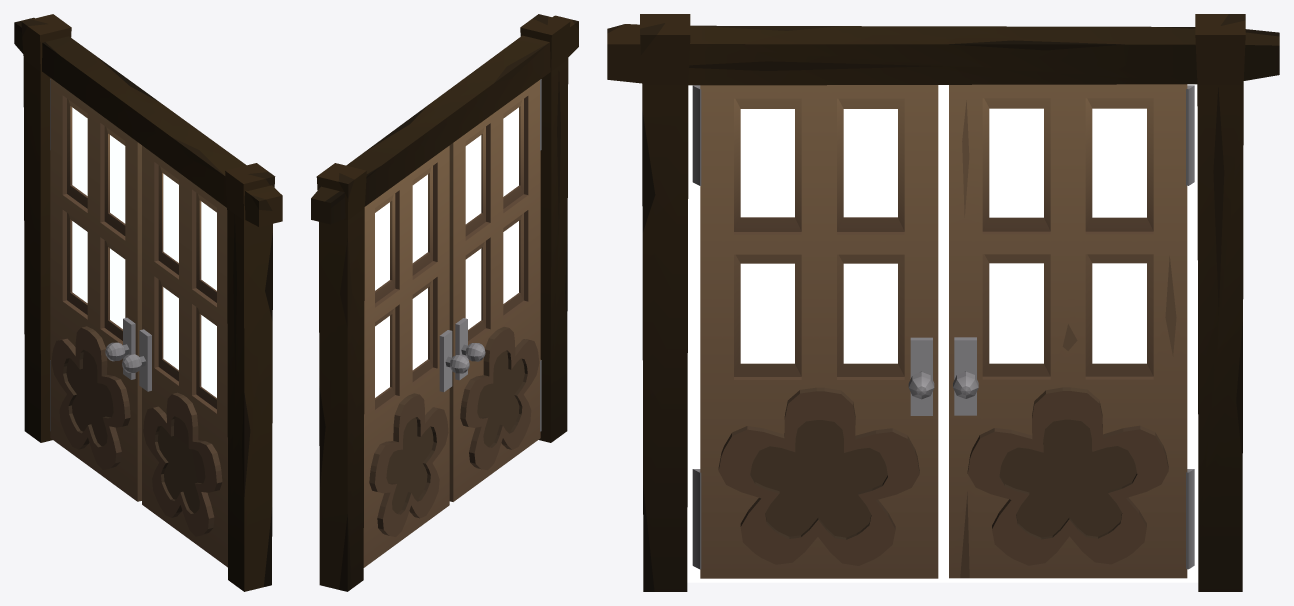
The model's file is cutepack2023doubledoor 1.fbx.
The picture shows the model from 3 angles, left to right: view 1: azimuth 30°, elevation 25°; view 2: azimuth 150°, elevation 25°; view 3: azimuth 270°, elevation 25°; orthographic projection. The views are drawn at different scales.
Visible parts, largest first — view 1: Cylinder.014, Plane.002; view 2: Cylinder.014, Plane.002; view 3: Cylinder.014, Plane.002.
Boxes of the visible parts, x1,y1,x2,y2 form: Cylinder.014: (14, 14, 282, 591); Plane.002: (72, 107, 216, 503); Cylinder.014: (311, 14, 578, 591); Plane.002: (375, 107, 518, 503); Cylinder.014: (607, 14, 1279, 591); Plane.002: (687, 84, 1198, 582).
Bounding box in the file's own units: 61.95 × 366 × 400.
